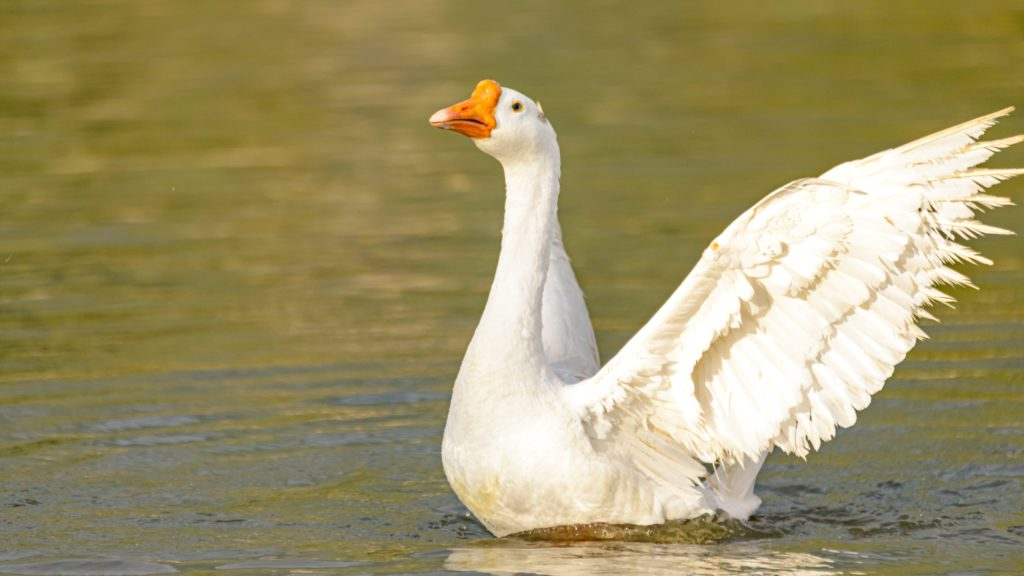goose: (434, 79, 979, 537)
